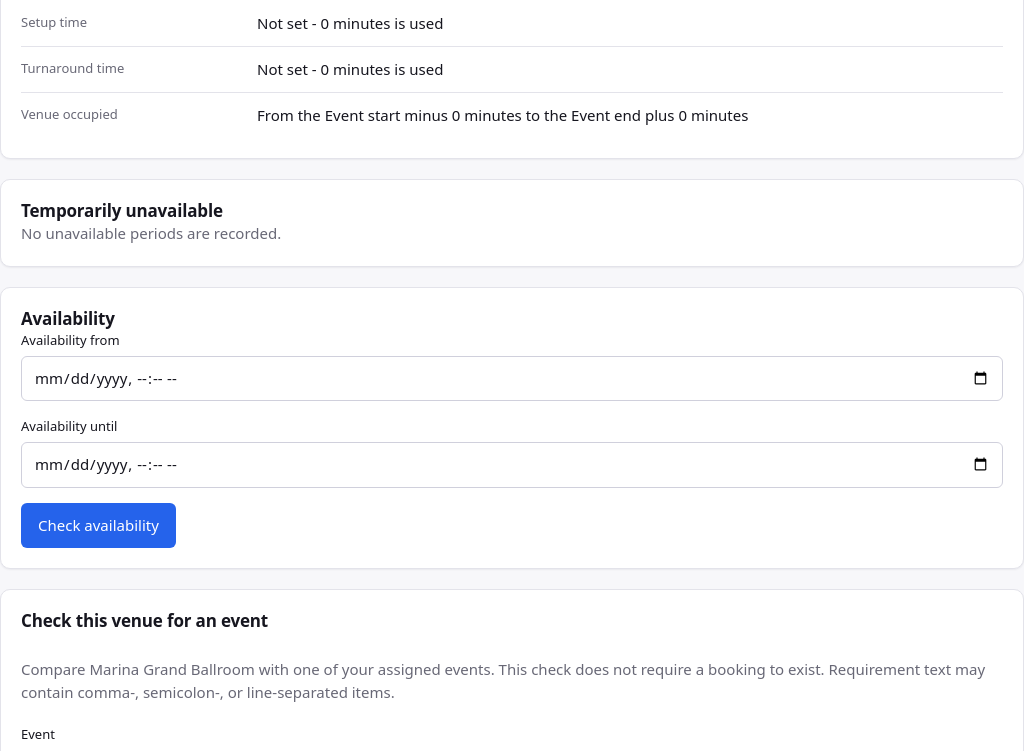
Test: SCRUM-41 AC2 - the availability calendar › does not show the venue available during an approved booking's occupied period
(page scrolled)
Check: the heading "Availability" is shown, box 21,307 -> 115,330
In the field labelled "Availability from": (512,379) 21,356 -> 1003,401, type "2026-11-02T00:00"
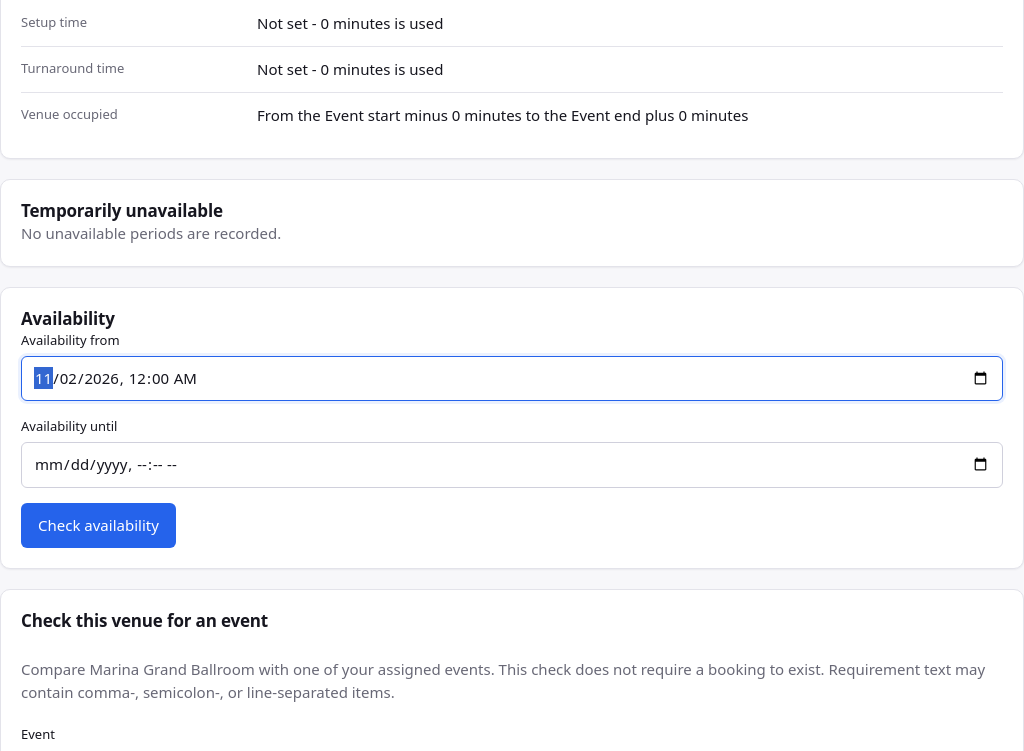
In the field labelled "Availability until": (512,465) 21,442 -> 1003,488, type "2026-11-03T00:00"
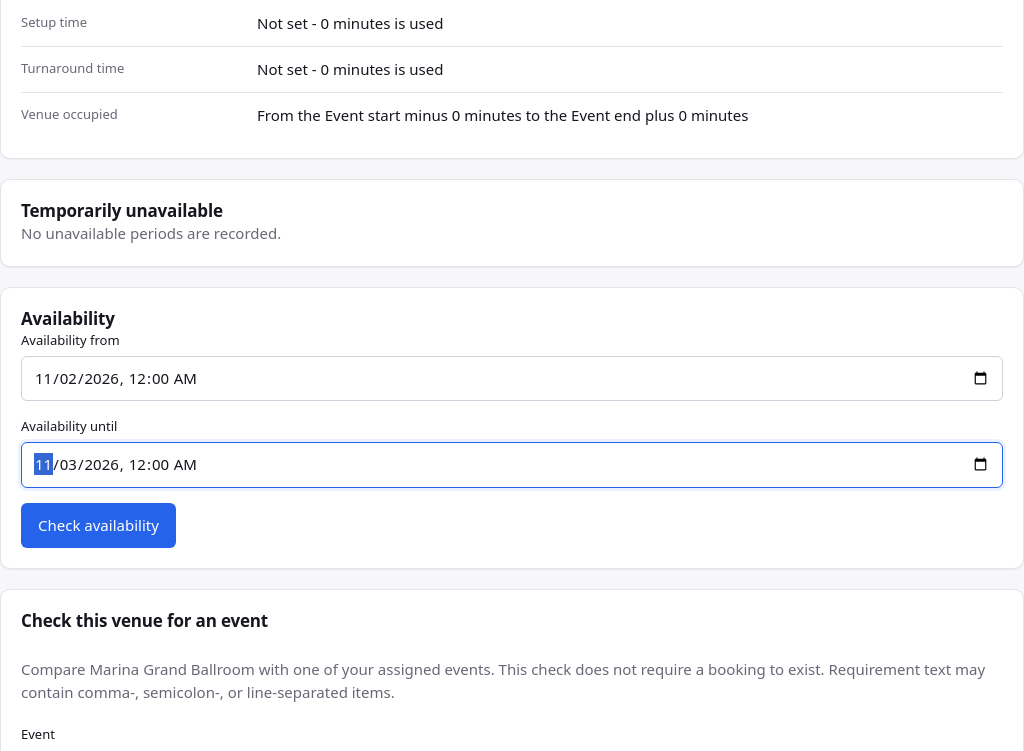
Click the button "Check availability": (98,525) 21,502 -> 176,548
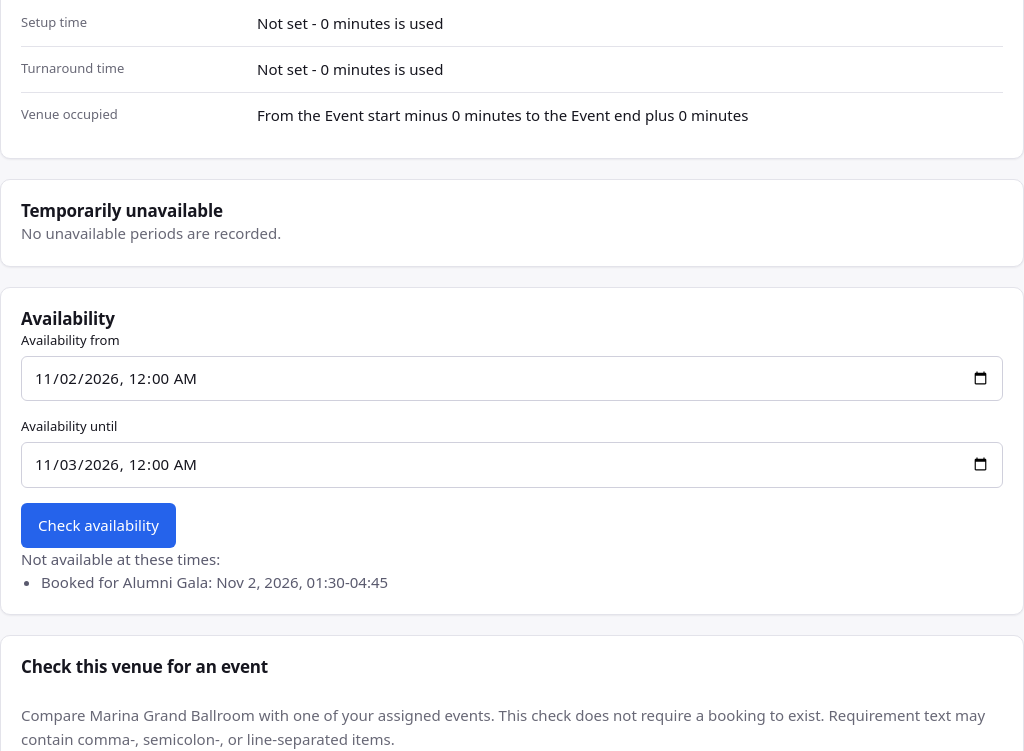
Check: the element named "Availability results" does not show "Available for the whole period", box 21,549 -> 388,592
Check: the element named "Availability results" shows "Booked for Alumni Gala", box 41,572 -> 388,592
